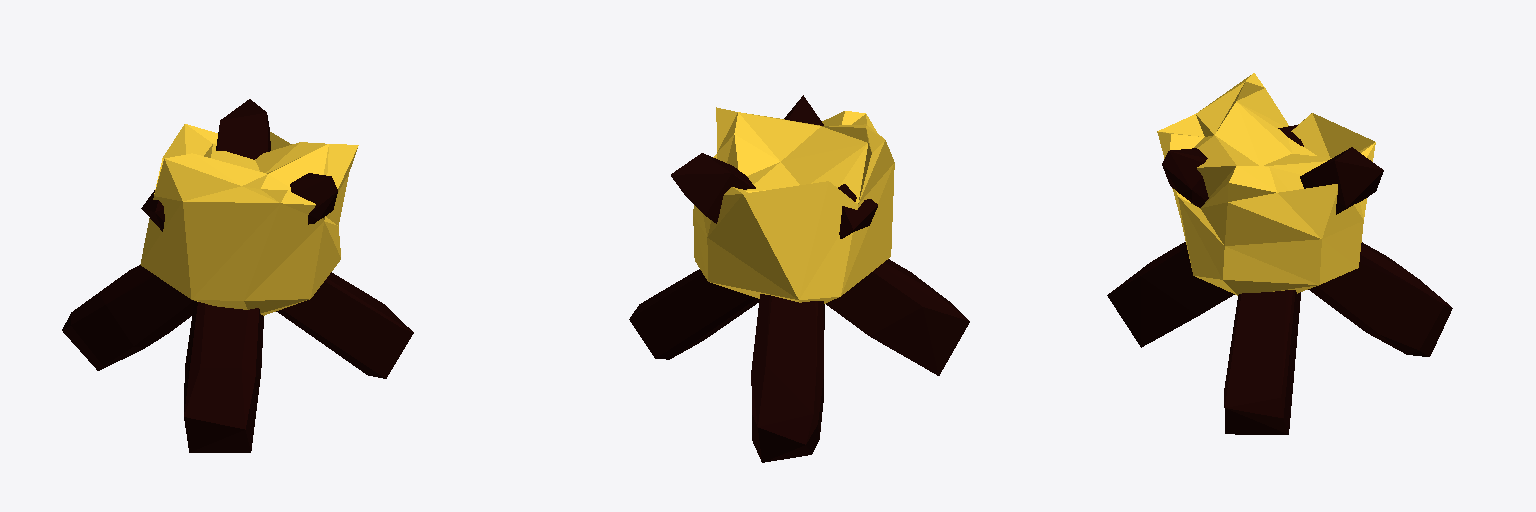
Rendered from CampFire.obj.
3 renders of one model, left to right at view 1: azimuth 30°, elevation 25°; view 2: azimuth 150°, elevation 25°; view 3: azimuth 270°, elevation 25°, orthographic.
Visible parts, largest first — view 1: Cube, Cube.001; view 2: Cube, Cube.001; view 3: Cube.001, Cube.
Part boxes in pixels (x1,y1,x2,y2): Cube: (62,99,413,452); Cube.001: (140,124,358,315); Cube: (629,95,969,462); Cube.001: (693,107,894,303); Cube.001: (1157,73,1375,295); Cube: (1107,125,1452,434).
Bounding box in the file's own units: 2.68 × 2.52 × 2.92.